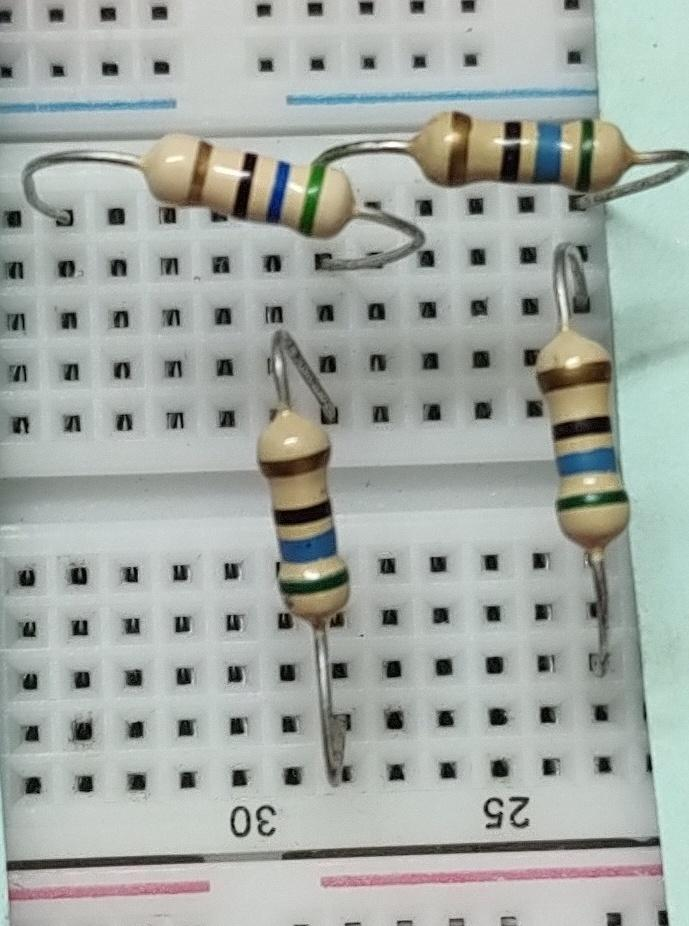resistor: (127, 121, 358, 253), (523, 323, 649, 549), (251, 399, 366, 632), (399, 103, 634, 195)
